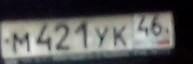license-plateSW: (0, 12, 174, 59)
